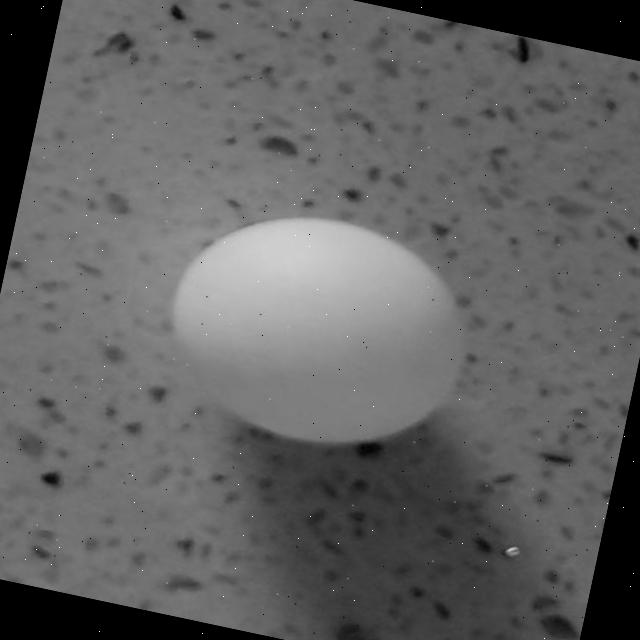ping-pong-ball: (149, 193, 485, 466)
